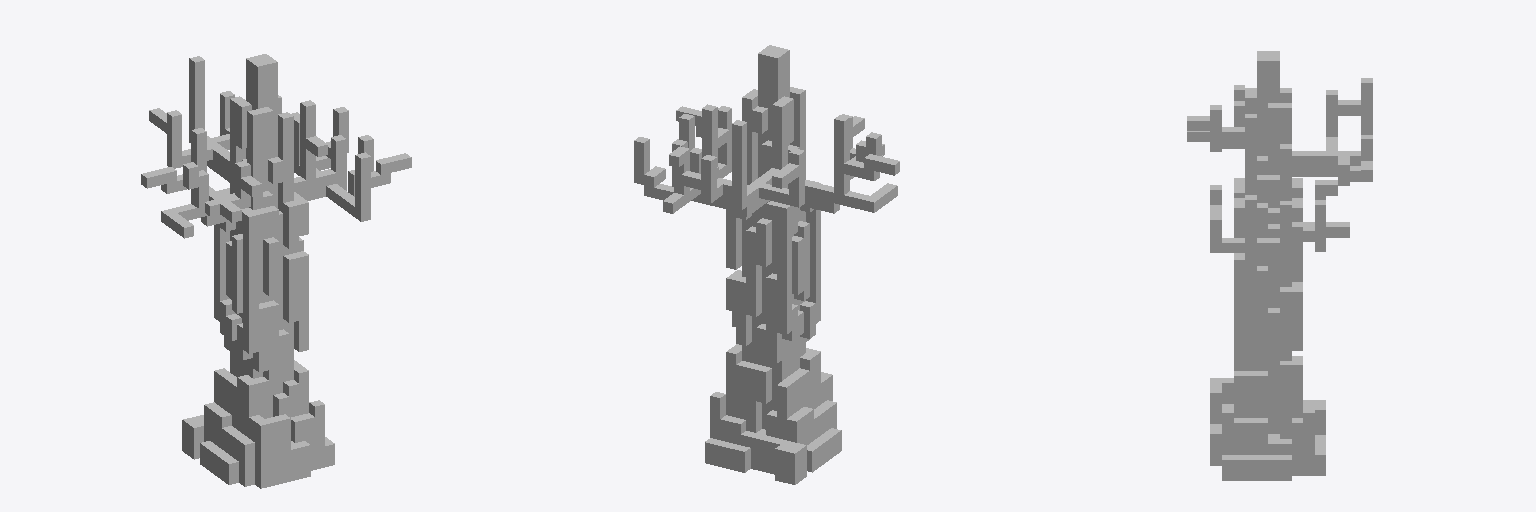
File: Tree1_LOD1.obj
The picture shows the model from 3 angles: view 1: azimuth 30°, elevation 25°; view 2: azimuth 150°, elevation 25°; view 3: azimuth 270°, elevation 25°; orthographic projection.
Parts seen in each view (by area): view 1: object 1; view 2: object 1; view 3: object 1.
Boxes of the visible parts, x1,y1,x2,y2 form: object 1: [141, 54, 411, 488]; object 1: [634, 45, 899, 484]; object 1: [1187, 51, 1372, 480].
Size of the model in its own units: 2.4 by 3.8 by 1.6.